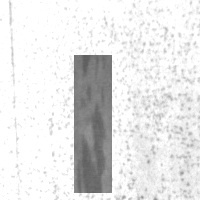inclusion: (74, 55, 112, 193)
pitted_surface: (45, 1, 199, 199)
